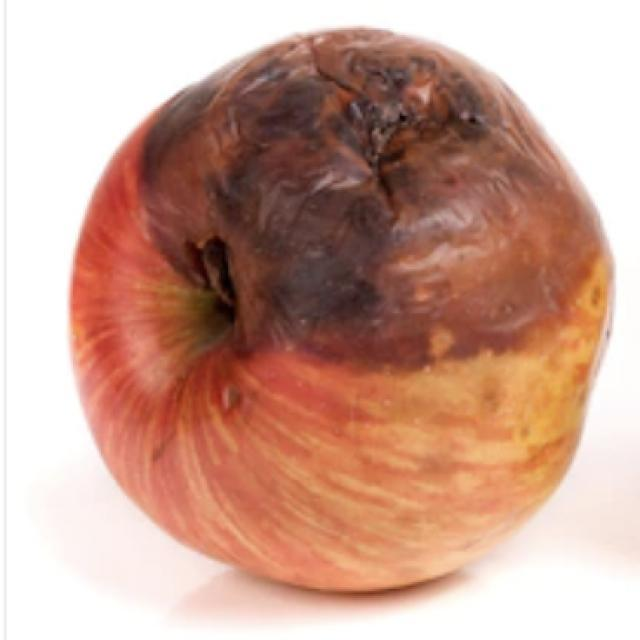Rotten: (87, 38, 620, 595)
